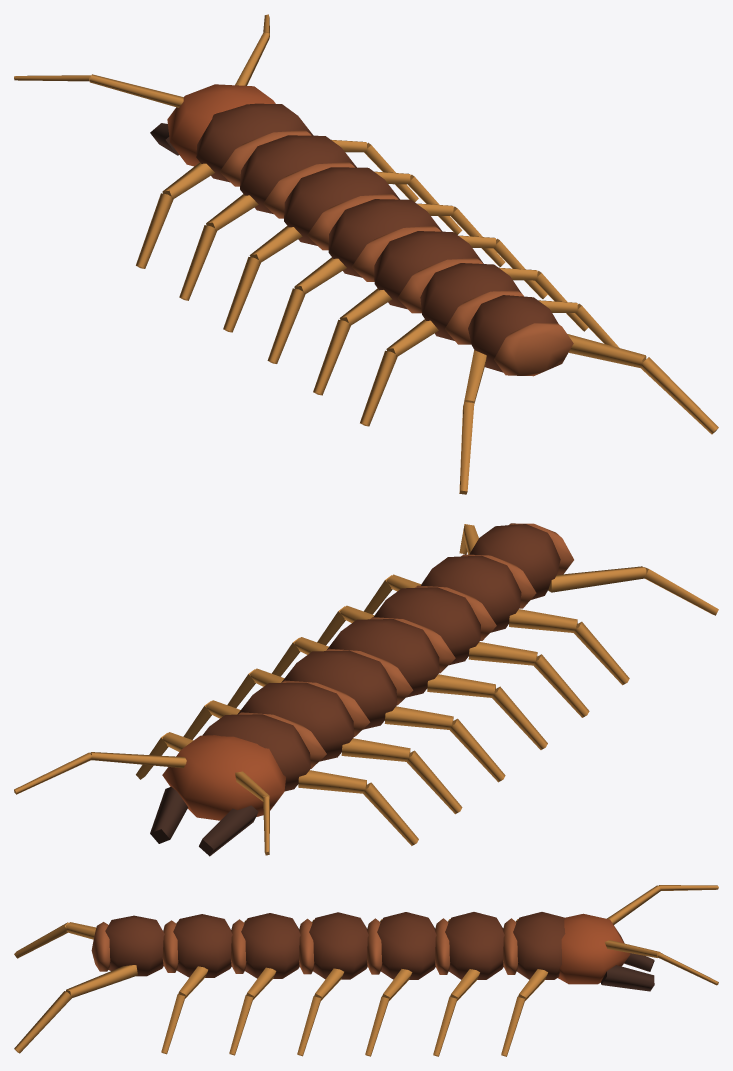
The model's file is scolopendra-low.glb.
The picture shows the model from 3 angles, top to bottom: view 1: azimuth 30°, elevation 25°; view 2: azimuth 150°, elevation 25°; view 3: azimuth 270°, elevation 25°; orthographic projection. The views are drawn at different scales.
Parts seen in each view (by area): view 1: Visual; view 2: Visual; view 3: Visual.
Boxes of the visible parts, x1,y1,x2,y2 form: Visual: (14, 14, 718, 494); Visual: (14, 523, 718, 856); Visual: (14, 885, 718, 1056).
Size of the model in its own units: 0.7363 by 0.2767 by 2.04.
